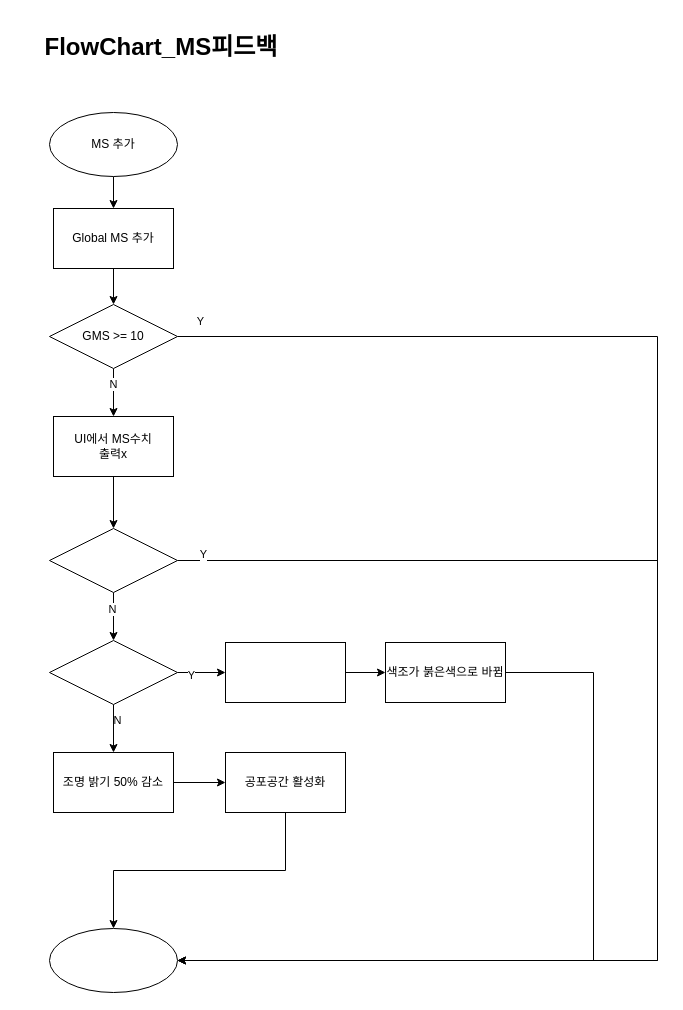
Image size: 683x1010. Some labels were removed from this diagram. Here are the shapes that lost their labels. From the top down, the box of each, then its label:
(48, 528, 178, 592): GMS < 20
(48, 640, 178, 704): GMS < 50
(224, 642, 346, 702): 조명이 깜빡임
(48, 928, 178, 992): Process 종료
